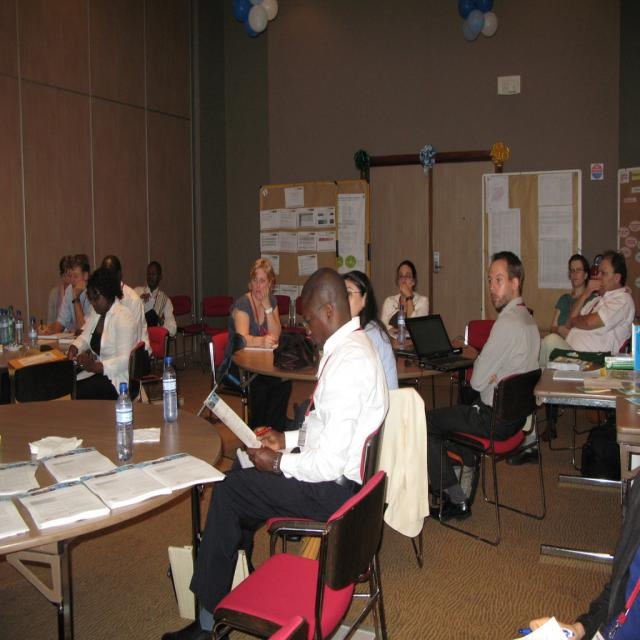chair: (212, 471, 389, 640), (439, 368, 546, 542), (202, 331, 254, 430), (11, 358, 77, 404), (168, 295, 204, 371), (129, 334, 167, 404), (200, 296, 233, 372), (465, 319, 497, 352)
desk: (0, 402, 221, 640)
laptop: (405, 312, 476, 370)
person: (178, 266, 388, 640), (426, 247, 540, 518), (524, 471, 640, 640), (71, 260, 150, 400), (541, 251, 635, 363), (229, 257, 286, 438), (342, 271, 400, 390), (544, 253, 592, 337), (380, 259, 429, 330), (138, 260, 178, 346), (46, 255, 78, 333)
